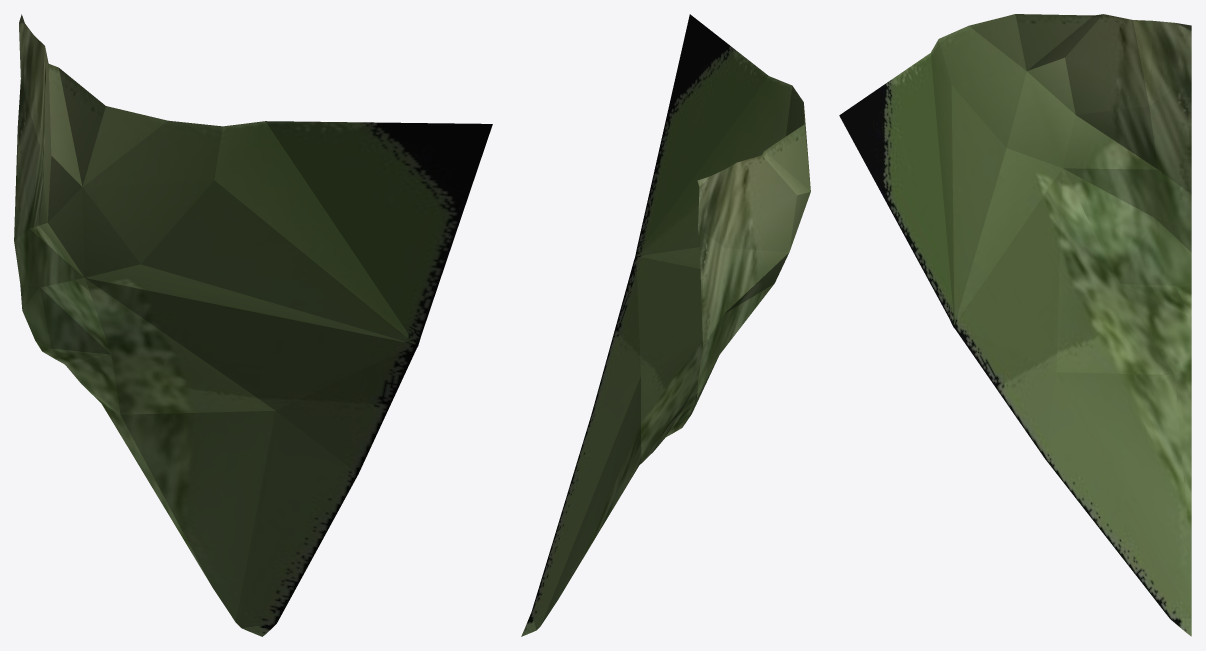
3 renders of one model, left to right at view 1: azimuth 30°, elevation 25°; view 2: azimuth 150°, elevation 25°; view 3: azimuth 270°, elevation 25°, orthographic. The views are drawn at different scales.
Bounding box in the file's own units: 2.52 × 5.59 × 3.43.
Materials: 2 (2 with a texture image).
